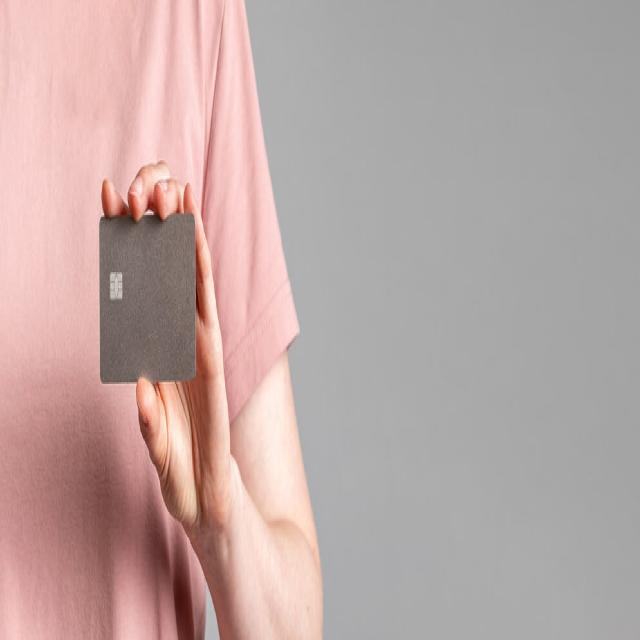payment_card: (97, 211, 197, 384)
